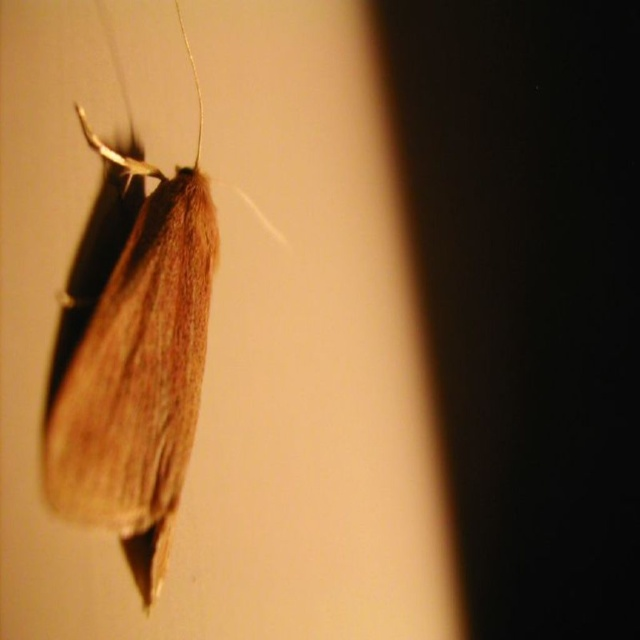Moths and butterflies: (41, 0, 289, 625)
